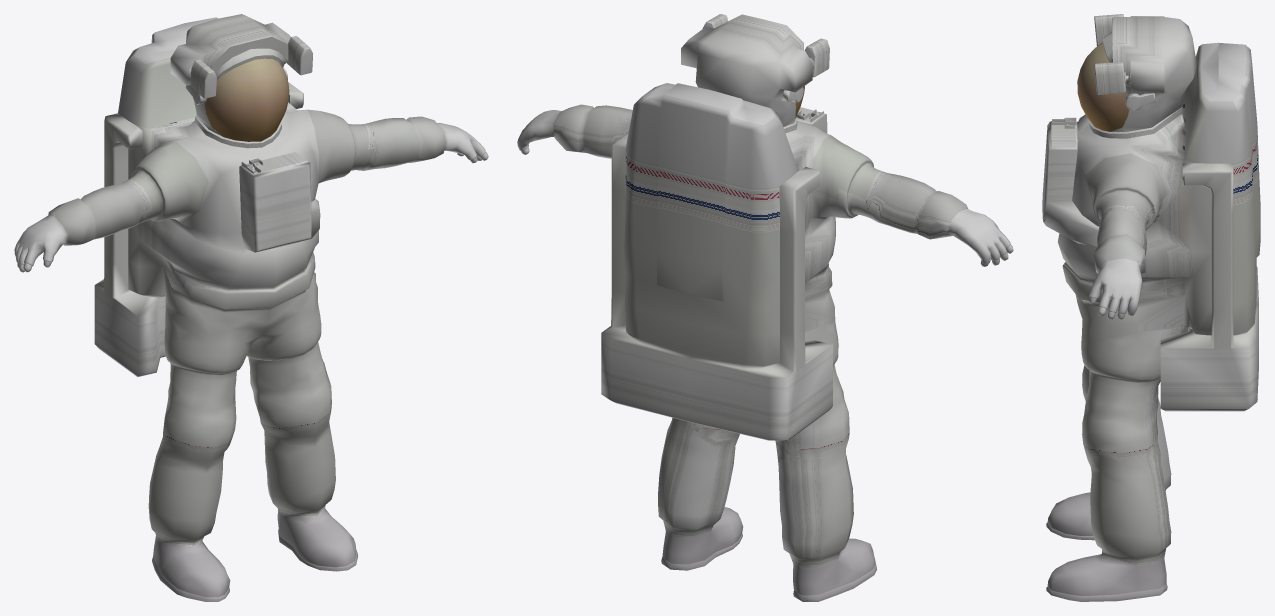
The model's file is Astronaut.glb.
3 renders of one model, left to right at view 1: azimuth 30°, elevation 25°; view 2: azimuth 150°, elevation 25°; view 3: azimuth 270°, elevation 25°, orthographic. The views are drawn at different scales.
Visible parts, largest first — view 1: astronaut1; view 2: astronaut1; view 3: astronaut1.
Part boxes in pixels (<box>): astronaut1: <box>14,14,488,601</box>; astronaut1: <box>517,14,1013,601</box>; astronaut1: <box>1042,14,1260,601</box>.
Bounding box in the file's own units: 68.91 × 74.26 × 27.6.
Materials: 2 (2 with a texture image).
